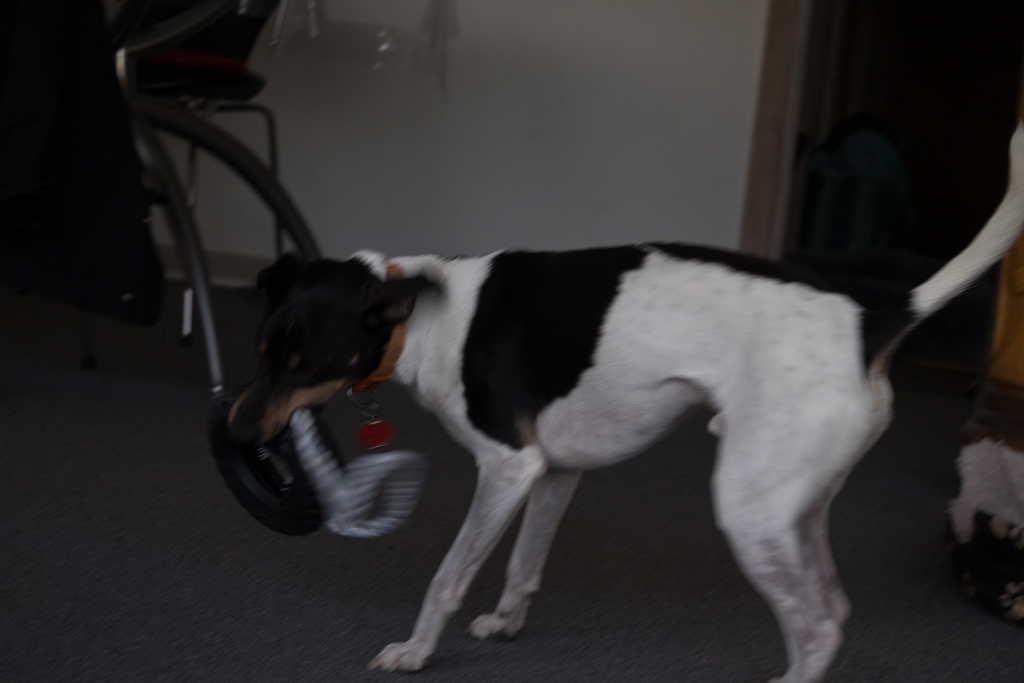Dog: (214, 113, 1024, 683)
